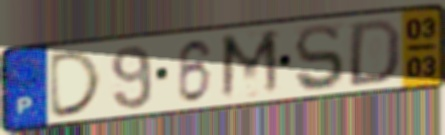6: (175, 38, 214, 104)
9: (107, 42, 155, 112)
D: (344, 16, 405, 89), (47, 48, 106, 121)
M: (217, 27, 284, 103)
S: (292, 22, 347, 94)
